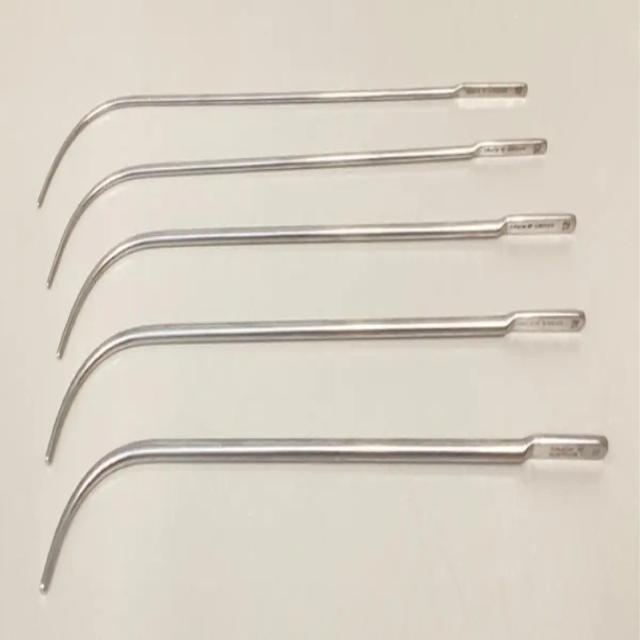Urethral Dilators: (37, 421, 610, 599), (43, 304, 593, 474), (54, 202, 579, 364), (44, 130, 563, 292), (34, 74, 554, 214)
